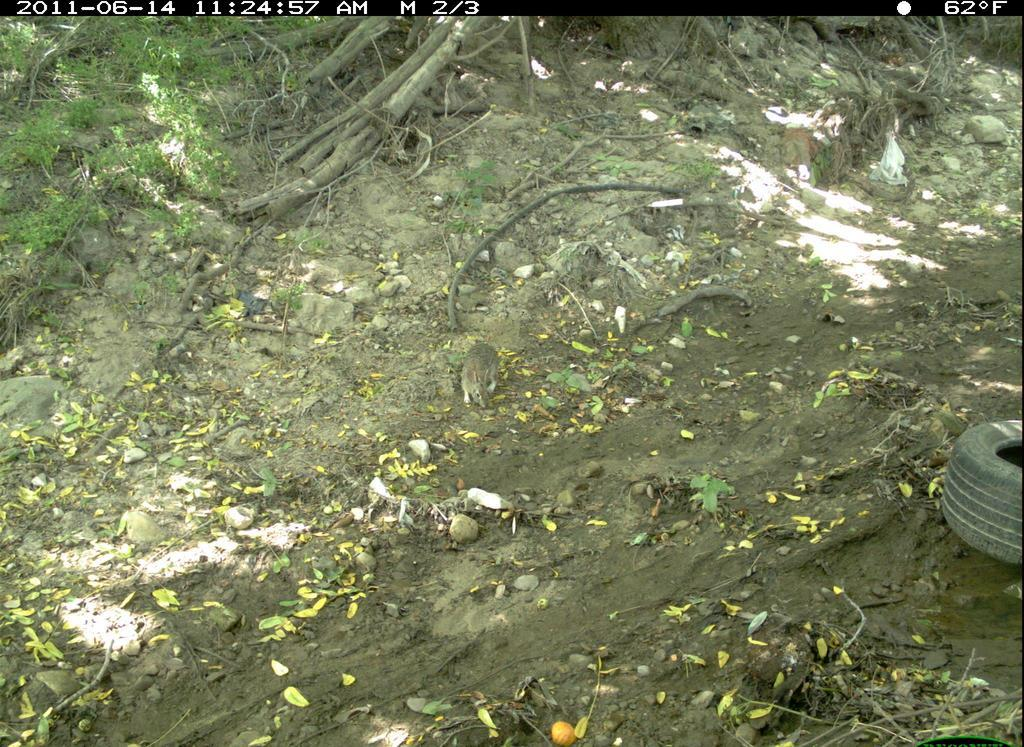rabbit: (452, 329, 511, 409)
